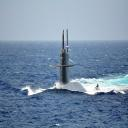submarine: (51, 29, 102, 95)
